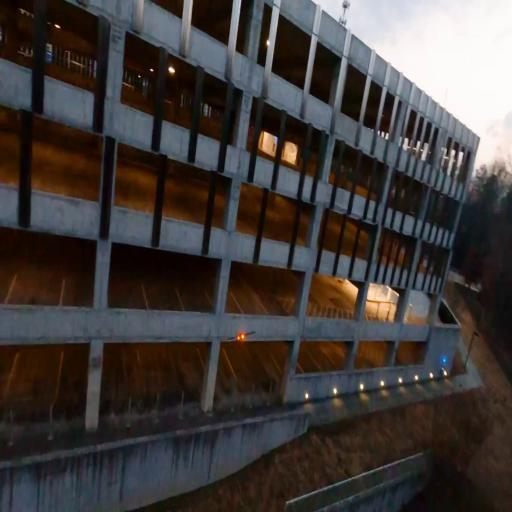uav: (224, 326, 260, 346)
